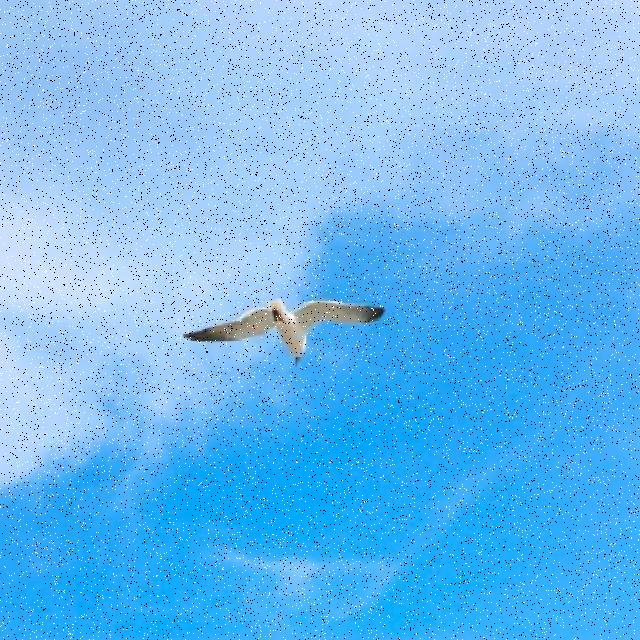bird: (184, 300, 386, 368)
